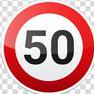Speed Limit -50-: (0, 1, 93, 93)
